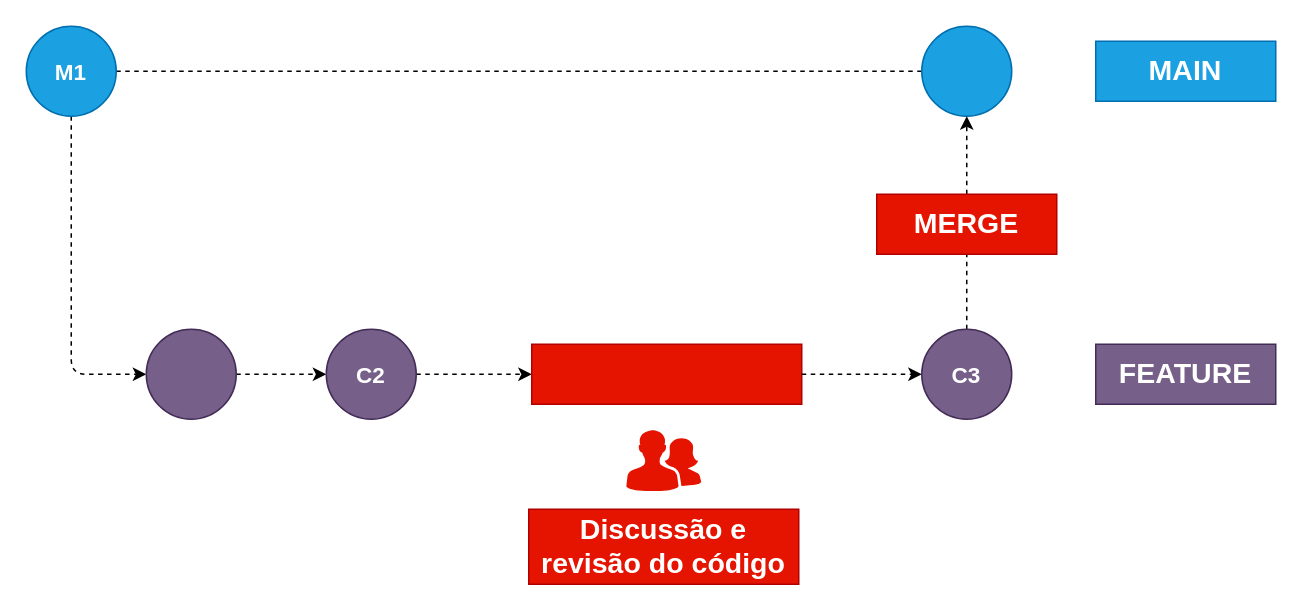
Image size: 1302x611. Some labels were removed from this diagram. The shapes that lost their labels are listed below. From the top down, each one's centre as x and y in pixels, then its label:
the point at 966,70: M2
the point at 190,373: C1
the point at 666,373: MERGE REQUEST
